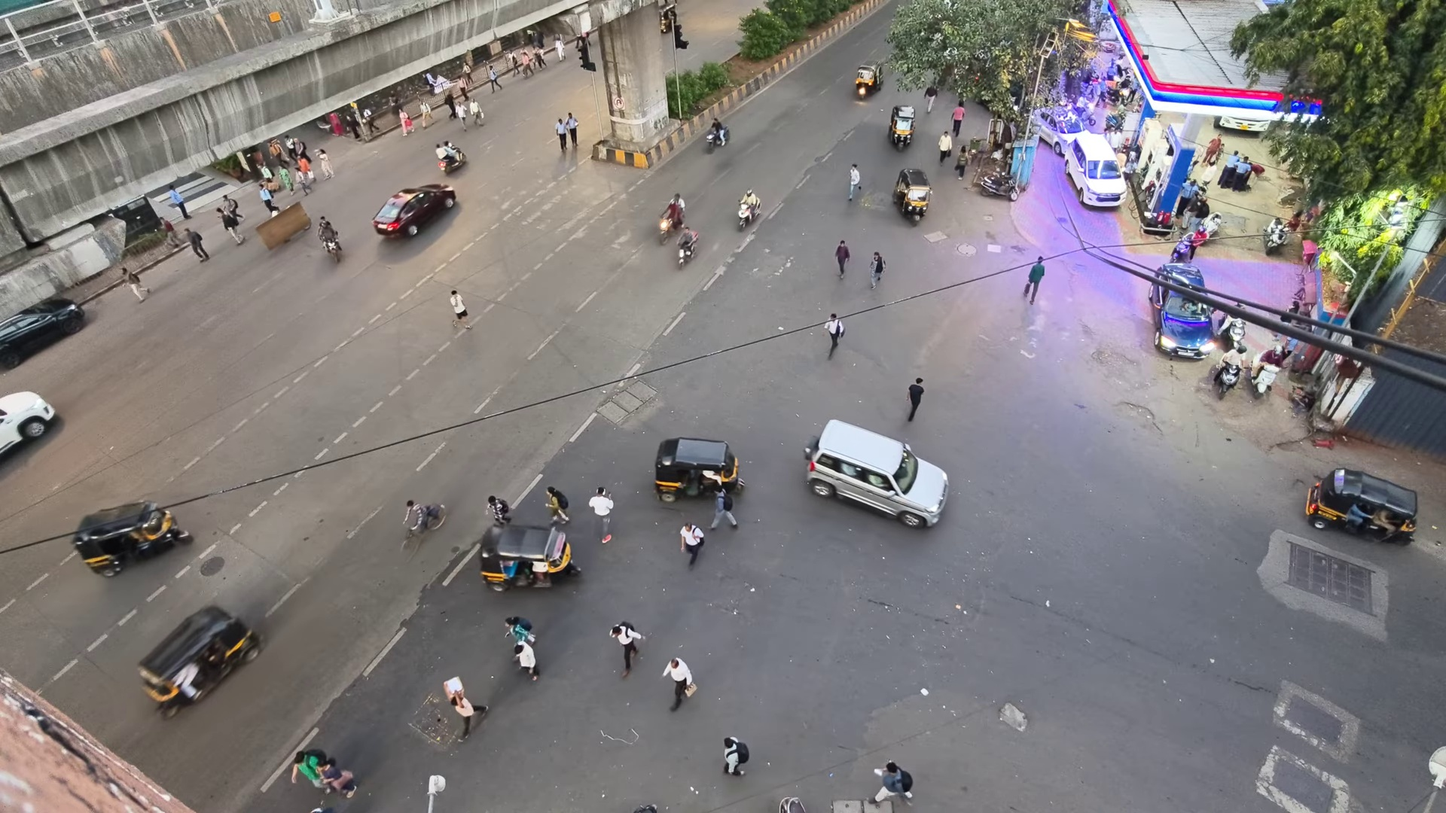walking: (610, 622, 644, 677), (450, 690, 487, 740), (874, 762, 911, 802), (663, 659, 692, 710), (588, 487, 613, 543), (291, 749, 327, 787), (322, 758, 356, 798), (709, 486, 737, 528), (680, 522, 704, 568), (215, 207, 243, 244), (1023, 256, 1045, 303), (120, 266, 149, 301), (1175, 178, 1199, 219), (724, 737, 749, 775), (514, 642, 538, 680), (545, 486, 569, 523), (825, 313, 844, 357), (504, 617, 535, 643), (449, 290, 470, 328), (185, 229, 209, 261), (168, 185, 191, 218), (908, 377, 924, 421), (487, 496, 510, 525), (161, 218, 182, 248), (259, 183, 278, 215), (222, 195, 244, 221), (835, 241, 850, 278), (870, 251, 885, 288), (317, 149, 334, 178), (952, 99, 965, 136), (565, 111, 578, 147), (938, 131, 952, 164), (278, 166, 294, 194), (849, 164, 860, 200), (398, 110, 413, 136), (533, 42, 547, 68), (487, 65, 500, 93), (419, 100, 432, 128), (469, 99, 482, 126), (925, 85, 937, 112), (556, 119, 566, 151), (554, 35, 564, 61)
